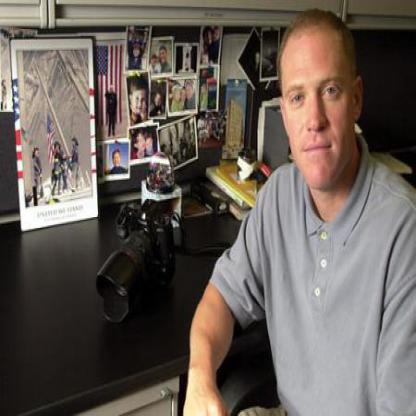face: (283, 12, 355, 193), (133, 84, 148, 117)
